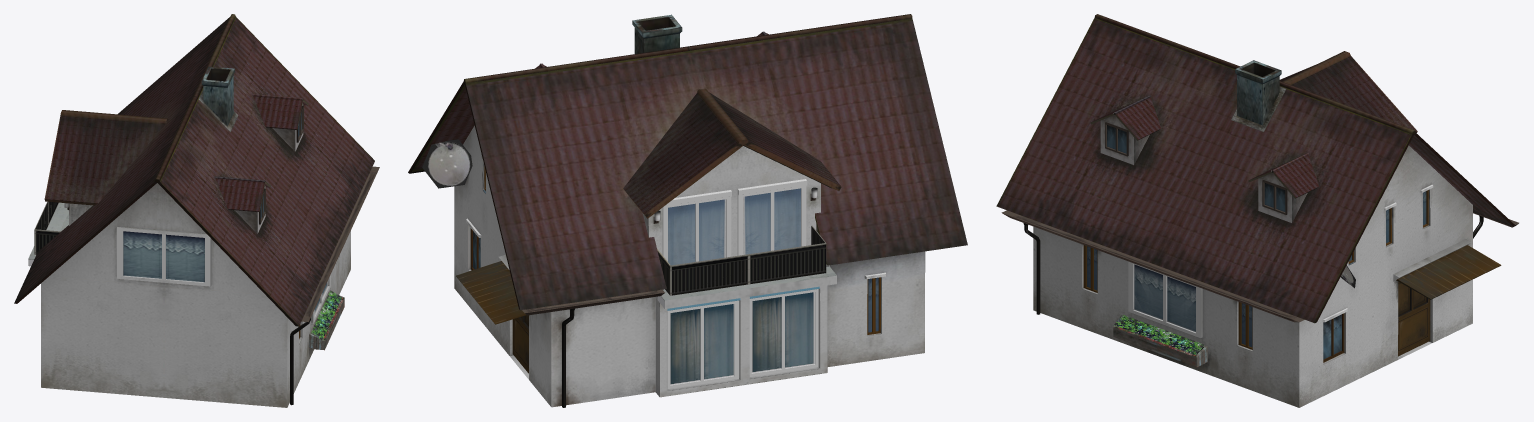
3 views of the same model, side by side, from view 1: azimuth 30°, elevation 25°; view 2: azimuth 150°, elevation 25°; view 3: azimuth 270°, elevation 25° (orthographic). The views are drawn at different scales.
Parts seen in each view (by area): view 1: City_building_036; view 2: City_building_036; view 3: City_building_036.
Part boxes in pixels (x1=…): City_building_036: x1=14, y1=14, x2=379, y2=407; City_building_036: x1=408, y1=14, x2=967, y2=407; City_building_036: x1=996, y1=14, x2=1518, y2=407.
Bounding box in the file's own units: 2401 × 2472 × 1355.
1 material, 1 textured.
